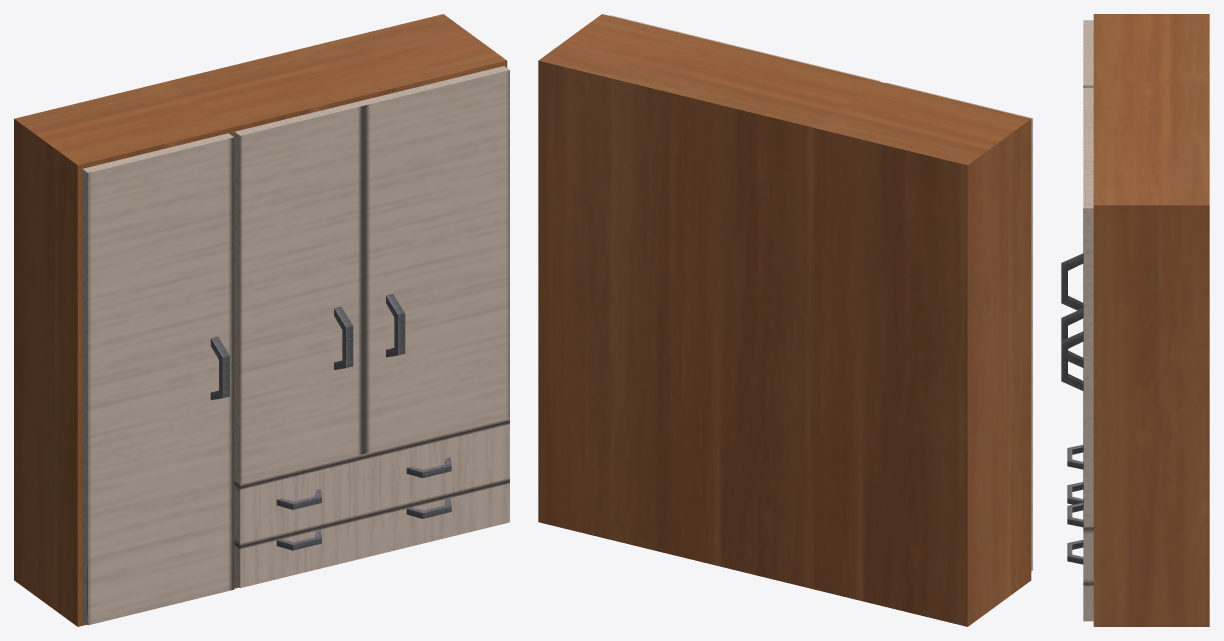
The model's file is WardRobe_1C.fbx.
The picture shows the model from 3 angles, left to right: view 1: azimuth 30°, elevation 25°; view 2: azimuth 150°, elevation 25°; view 3: azimuth 270°, elevation 25°; orthographic projection. The views are drawn at different scales.
Parts seen in each view (by area): view 1: polySurface1508; view 2: polySurface1508; view 3: polySurface1508.
Part boxes in pixels (left/top/right/bottom): polySurface1508: left=14, top=14, right=509, bottom=626; polySurface1508: left=538, top=14, right=1032, bottom=626; polySurface1508: left=1061, top=14, right=1209, bottom=626.
Size of the model in its own units: 3.31 by 3.4 by 1.09.
